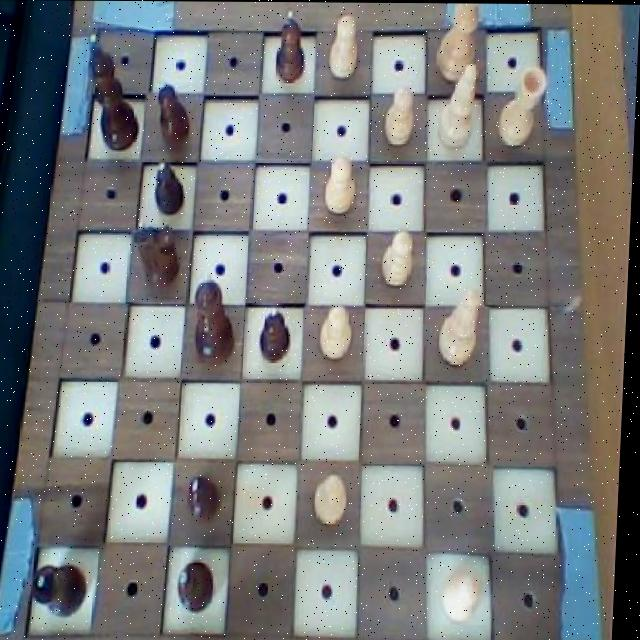bishop: (176, 555, 224, 619)
black-bishop: (81, 31, 148, 155)
black-king: (129, 219, 188, 295)
black-knight: (149, 79, 196, 148), (276, 9, 309, 86), (188, 473, 231, 532), (260, 303, 297, 367), (151, 158, 188, 222)
black-pawn: (193, 269, 243, 368)
black-queen: (35, 559, 96, 619)
black-rook: (434, 58, 484, 153), (436, 283, 487, 368)
white-bishop: (430, 3, 489, 78)
white-knight: (326, 9, 364, 83), (444, 569, 491, 628), (380, 81, 420, 150), (322, 152, 362, 220), (381, 227, 421, 291), (319, 303, 360, 365), (314, 470, 356, 525)
white-queen: (492, 61, 550, 153)
